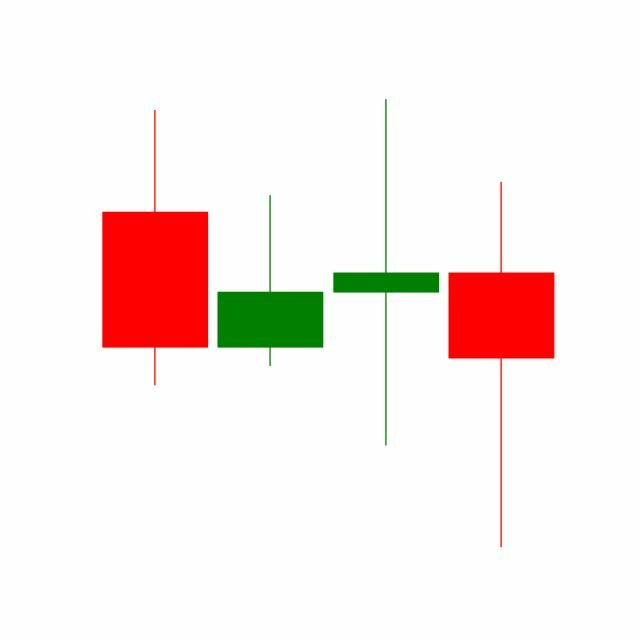Spinning Top: (444, 178, 560, 552)
